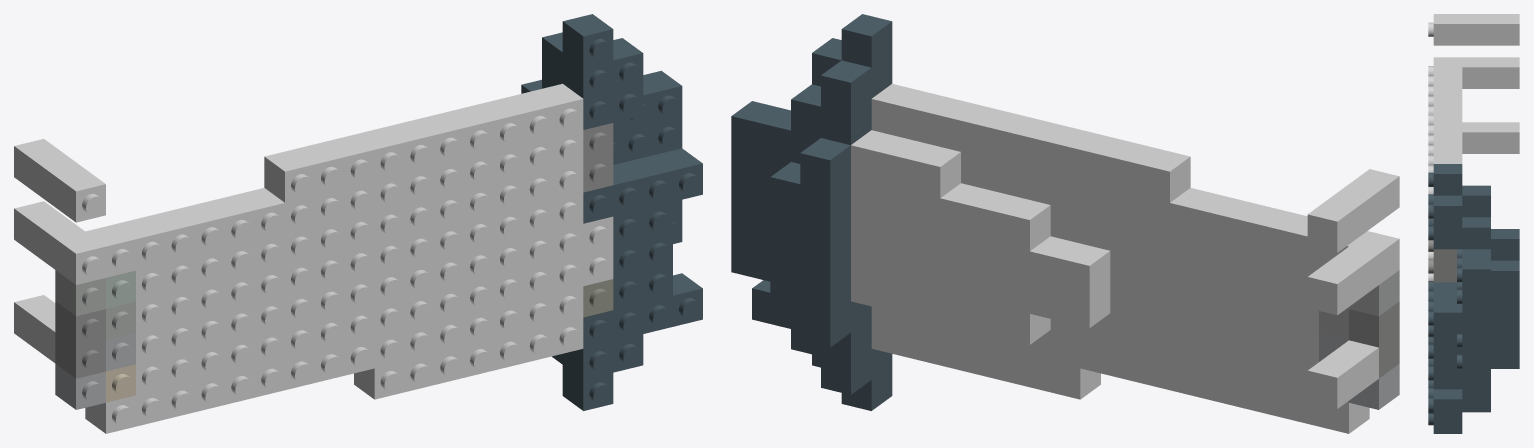
File: full.glb
3 views of the same model, side by side, from view 1: azimuth 30°, elevation 25°; view 2: azimuth 150°, elevation 25°; view 3: azimuth 270°, elevation 25° (orthographic). The views are drawn at different scales.
Parts seen in each view (by area): view 1: world; view 2: world; view 3: world.
Part boxes in pixels (x1,y1,x2,y2): world: (14,14,702,433); world: (731,14,1399,433); world: (1428,14,1519,433).
Size of the model in its own units: 168 by 96 by 30.6.
